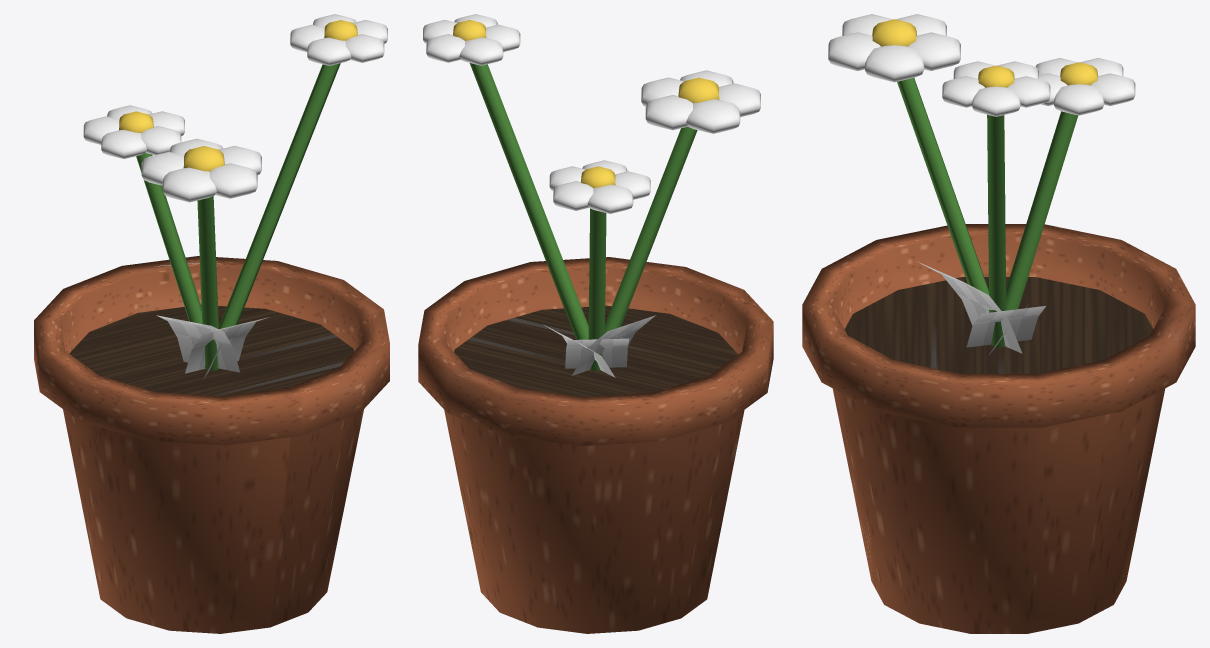
The model's file is flowerPot.glb.
3 views of the same model, side by side, from view 1: azimuth 30°, elevation 25°; view 2: azimuth 150°, elevation 25°; view 3: azimuth 270°, elevation 25° (orthographic). The views are drawn at different scales.
Parts seen in each view (by area): view 1: flowerPot, dyn_color_tint; view 2: flowerPot, dyn_color_tint; view 3: flowerPot, dyn_color_tint.
Part boxes in pixels (x1,y1,x2,y2): flowerPot: [34, 20, 389, 633]; dyn_color_tint: [83, 14, 387, 378]; flowerPot: [418, 20, 773, 633]; dyn_color_tint: [423, 14, 760, 377]; flowerPot: [802, 19, 1195, 633]; dyn_color_tint: [828, 14, 1135, 355].
Bounding box in the file's own units: 0.3184 × 0.4736 × 0.2904.
5 materials, 3 textured.
